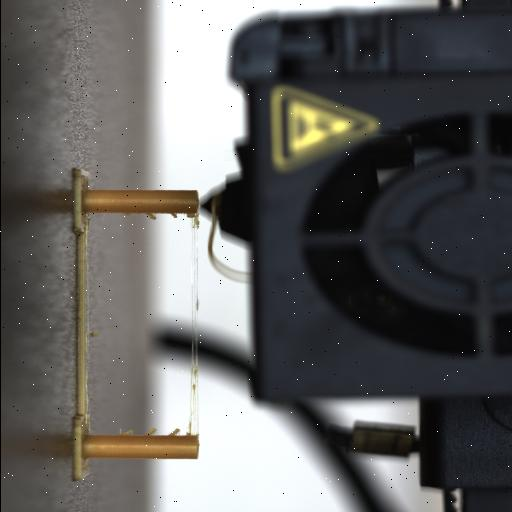stringing: (183, 214, 201, 436), (142, 426, 161, 438), (166, 427, 182, 439), (144, 213, 160, 223), (120, 428, 138, 436), (167, 212, 179, 220)
